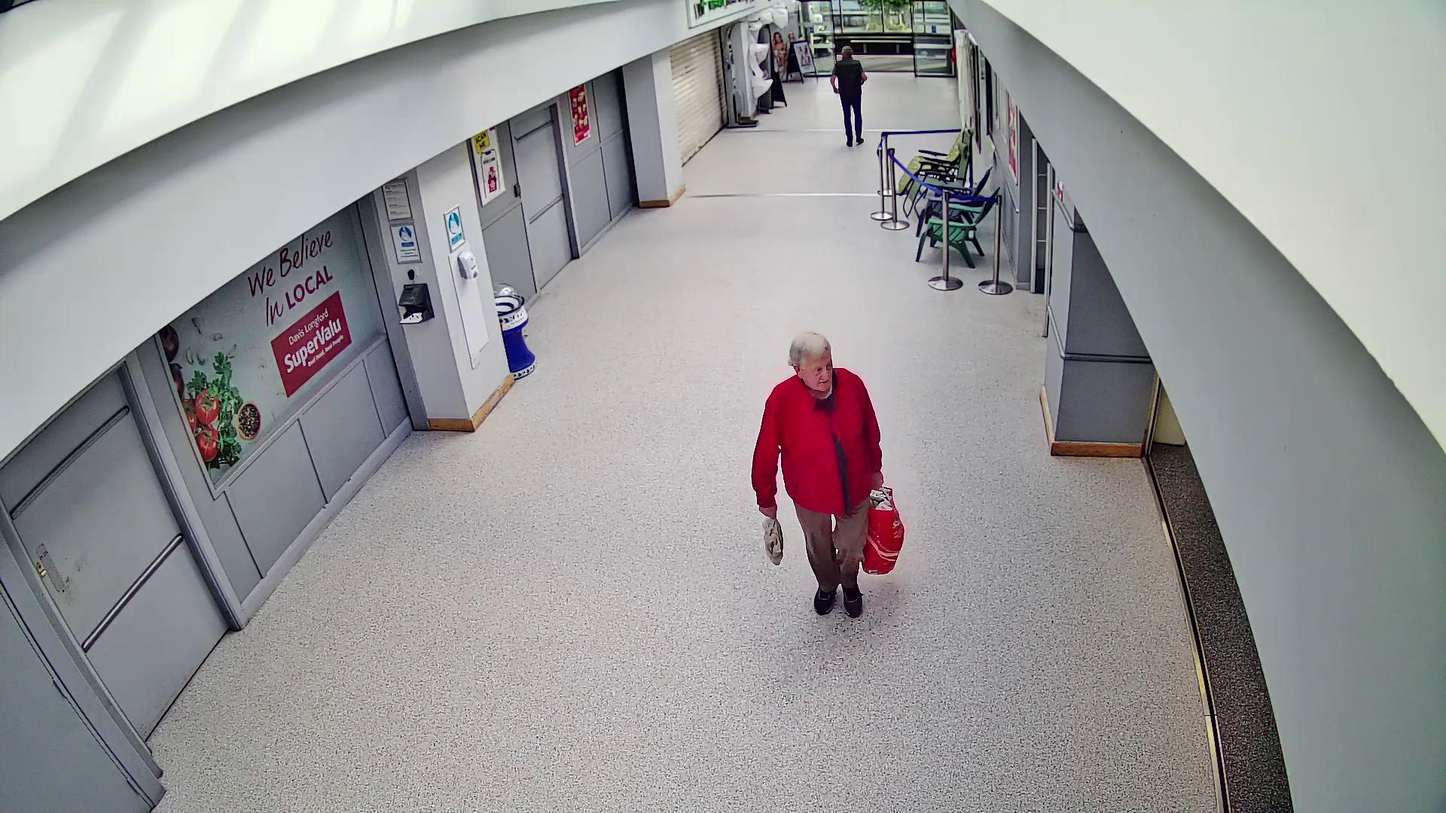carrying-item: (760, 512, 787, 565)
filled-shopping-bags: (862, 484, 905, 575)
person: (751, 332, 883, 618)
person with carrying item-s- and shopping bag-s-: (751, 332, 906, 619)
